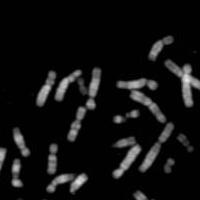chromosome: (137, 121, 174, 176), (164, 59, 200, 99), (131, 88, 166, 123), (112, 144, 141, 179), (53, 68, 80, 101), (36, 69, 57, 106), (147, 35, 175, 61), (67, 106, 87, 141), (116, 77, 157, 93), (87, 66, 101, 109), (12, 125, 30, 156), (47, 174, 75, 192), (183, 64, 194, 108), (114, 108, 140, 125), (10, 158, 25, 187), (68, 173, 87, 195), (45, 143, 58, 172), (176, 133, 193, 153), (112, 136, 135, 150), (0, 145, 7, 190), (132, 190, 157, 200), (76, 79, 89, 95), (164, 158, 175, 173), (24, 199, 49, 200), (8, 199, 24, 200)
